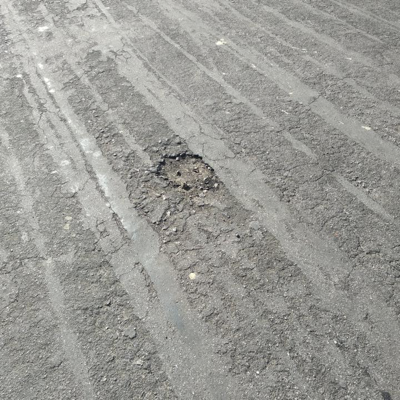pothole: (154, 152, 219, 192)
